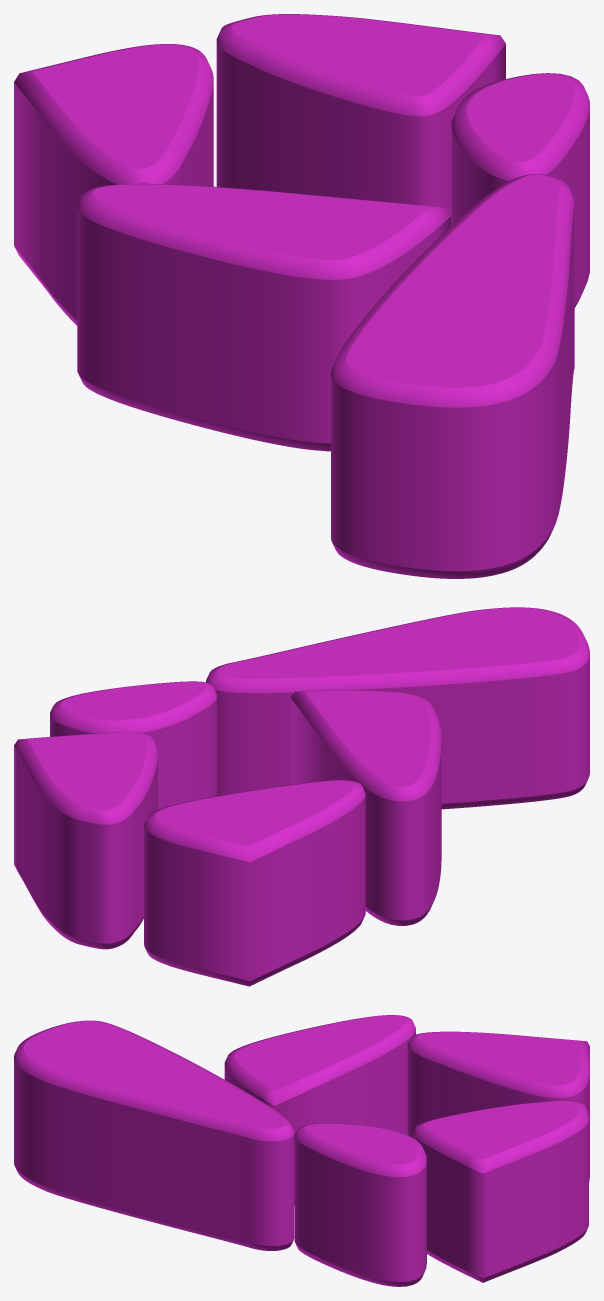
File: Number_6.fbx
The picture shows the model from 3 angles, top to bottom: view 1: azimuth 30°, elevation 25°; view 2: azimuth 150°, elevation 25°; view 3: azimuth 270°, elevation 25°; orthographic projection. The views are drawn at different scales.
Parts seen in each view (by area): view 1: Number_6; view 2: Number_6; view 3: Number_6.
Boxes of the visible parts, left/top/right/bottom form: Number_6: left=14, top=14, right=589, bottom=578; Number_6: left=14, top=607, right=589, bottom=986; Number_6: left=14, top=1015, right=589, bottom=1286.
Bounding box in the file's own units: 0.3871 × 0.14 × 0.5986.
